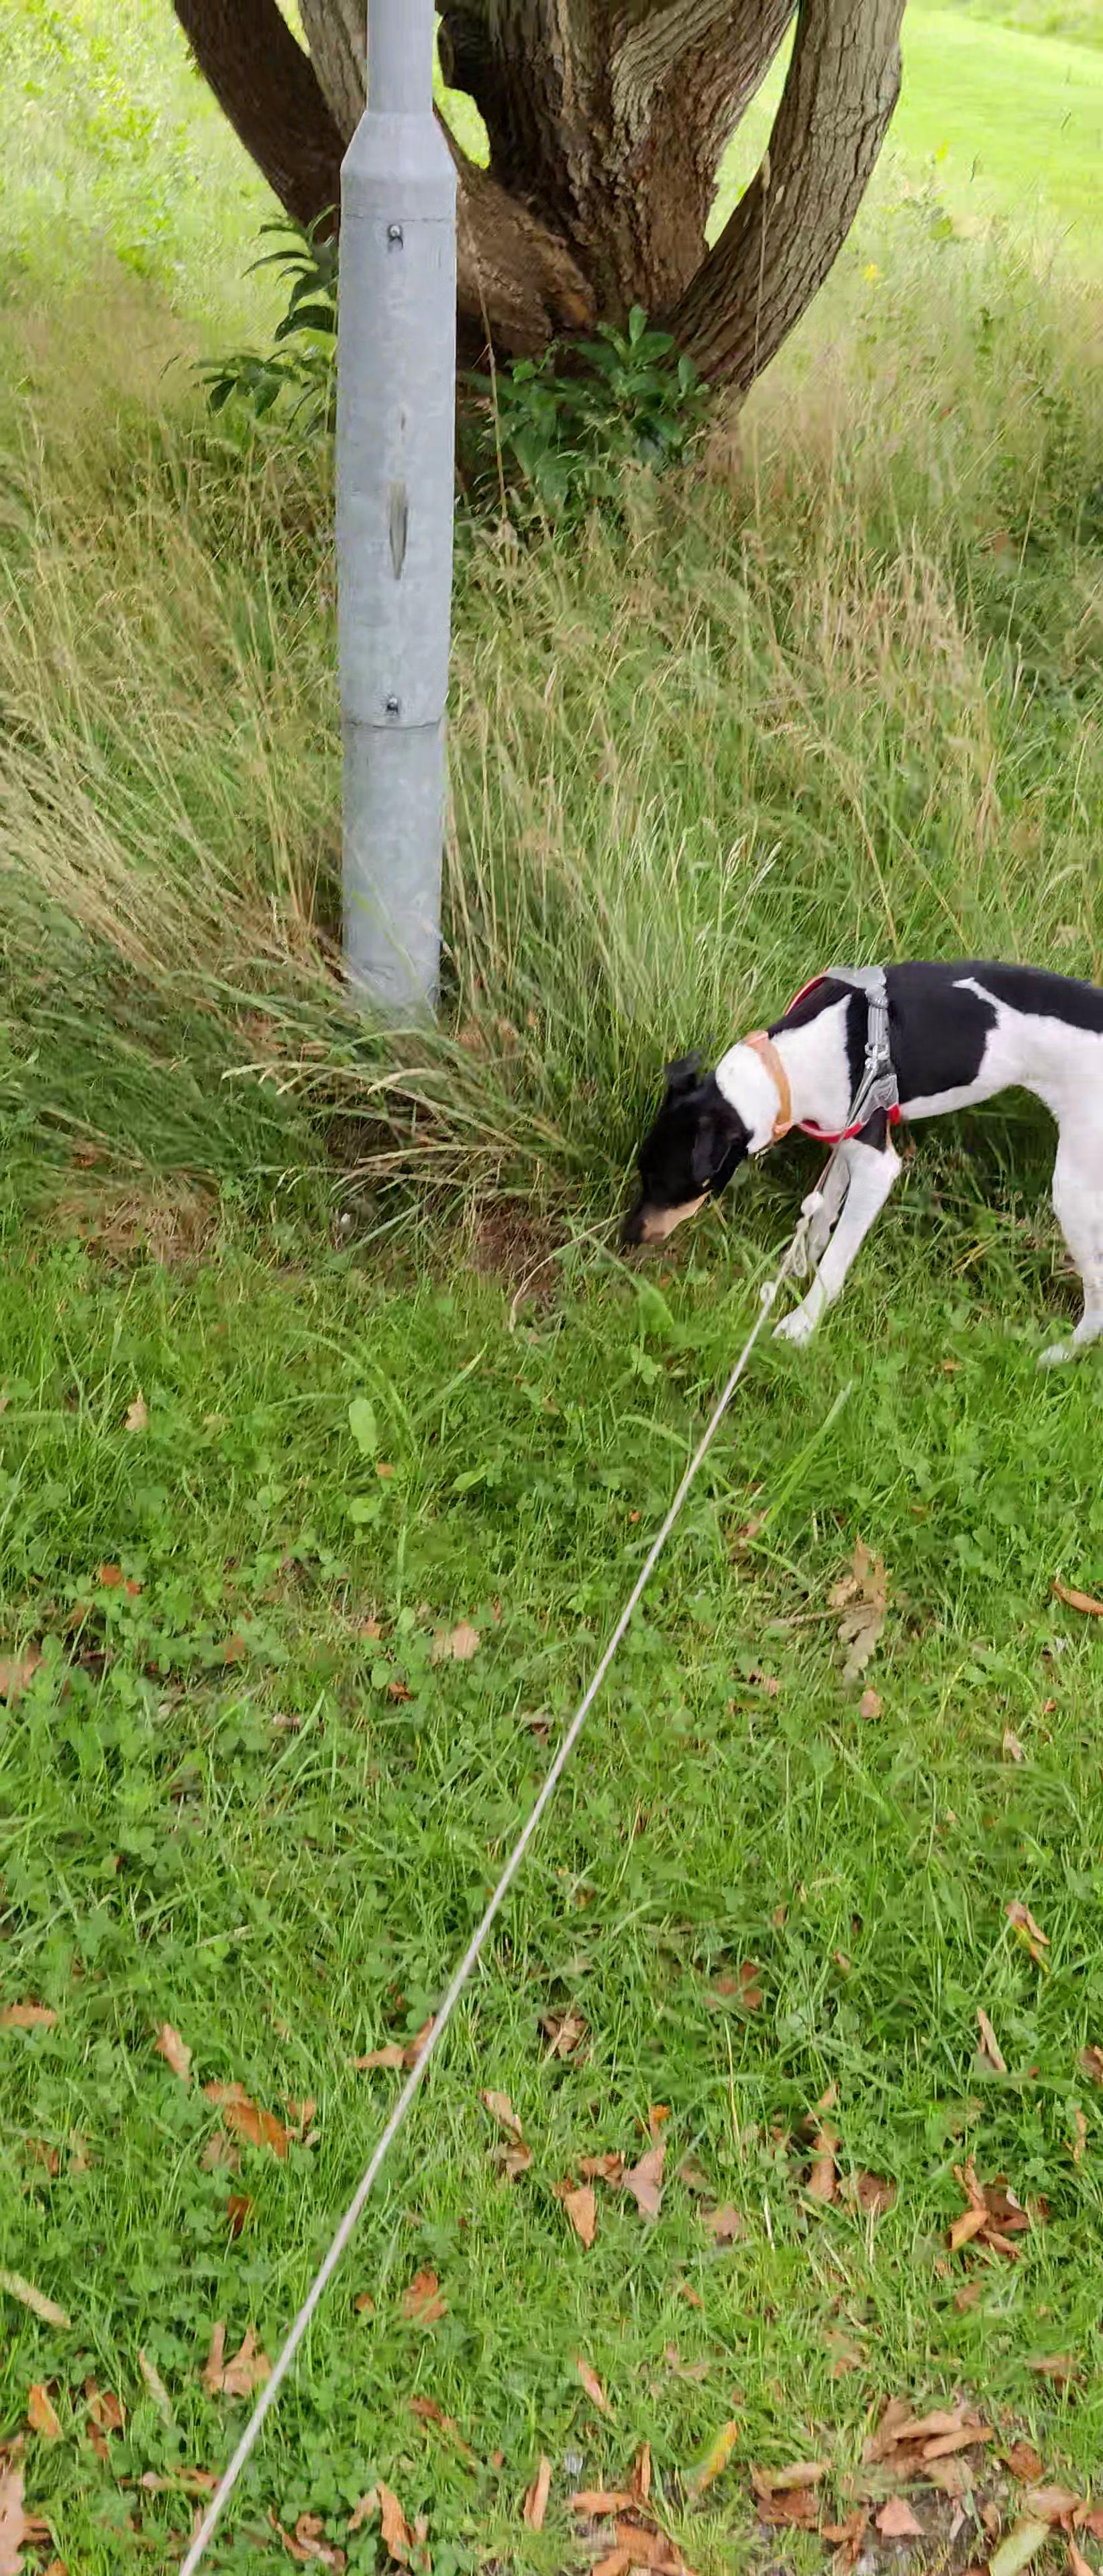Dog: (616, 958, 1103, 1372)
